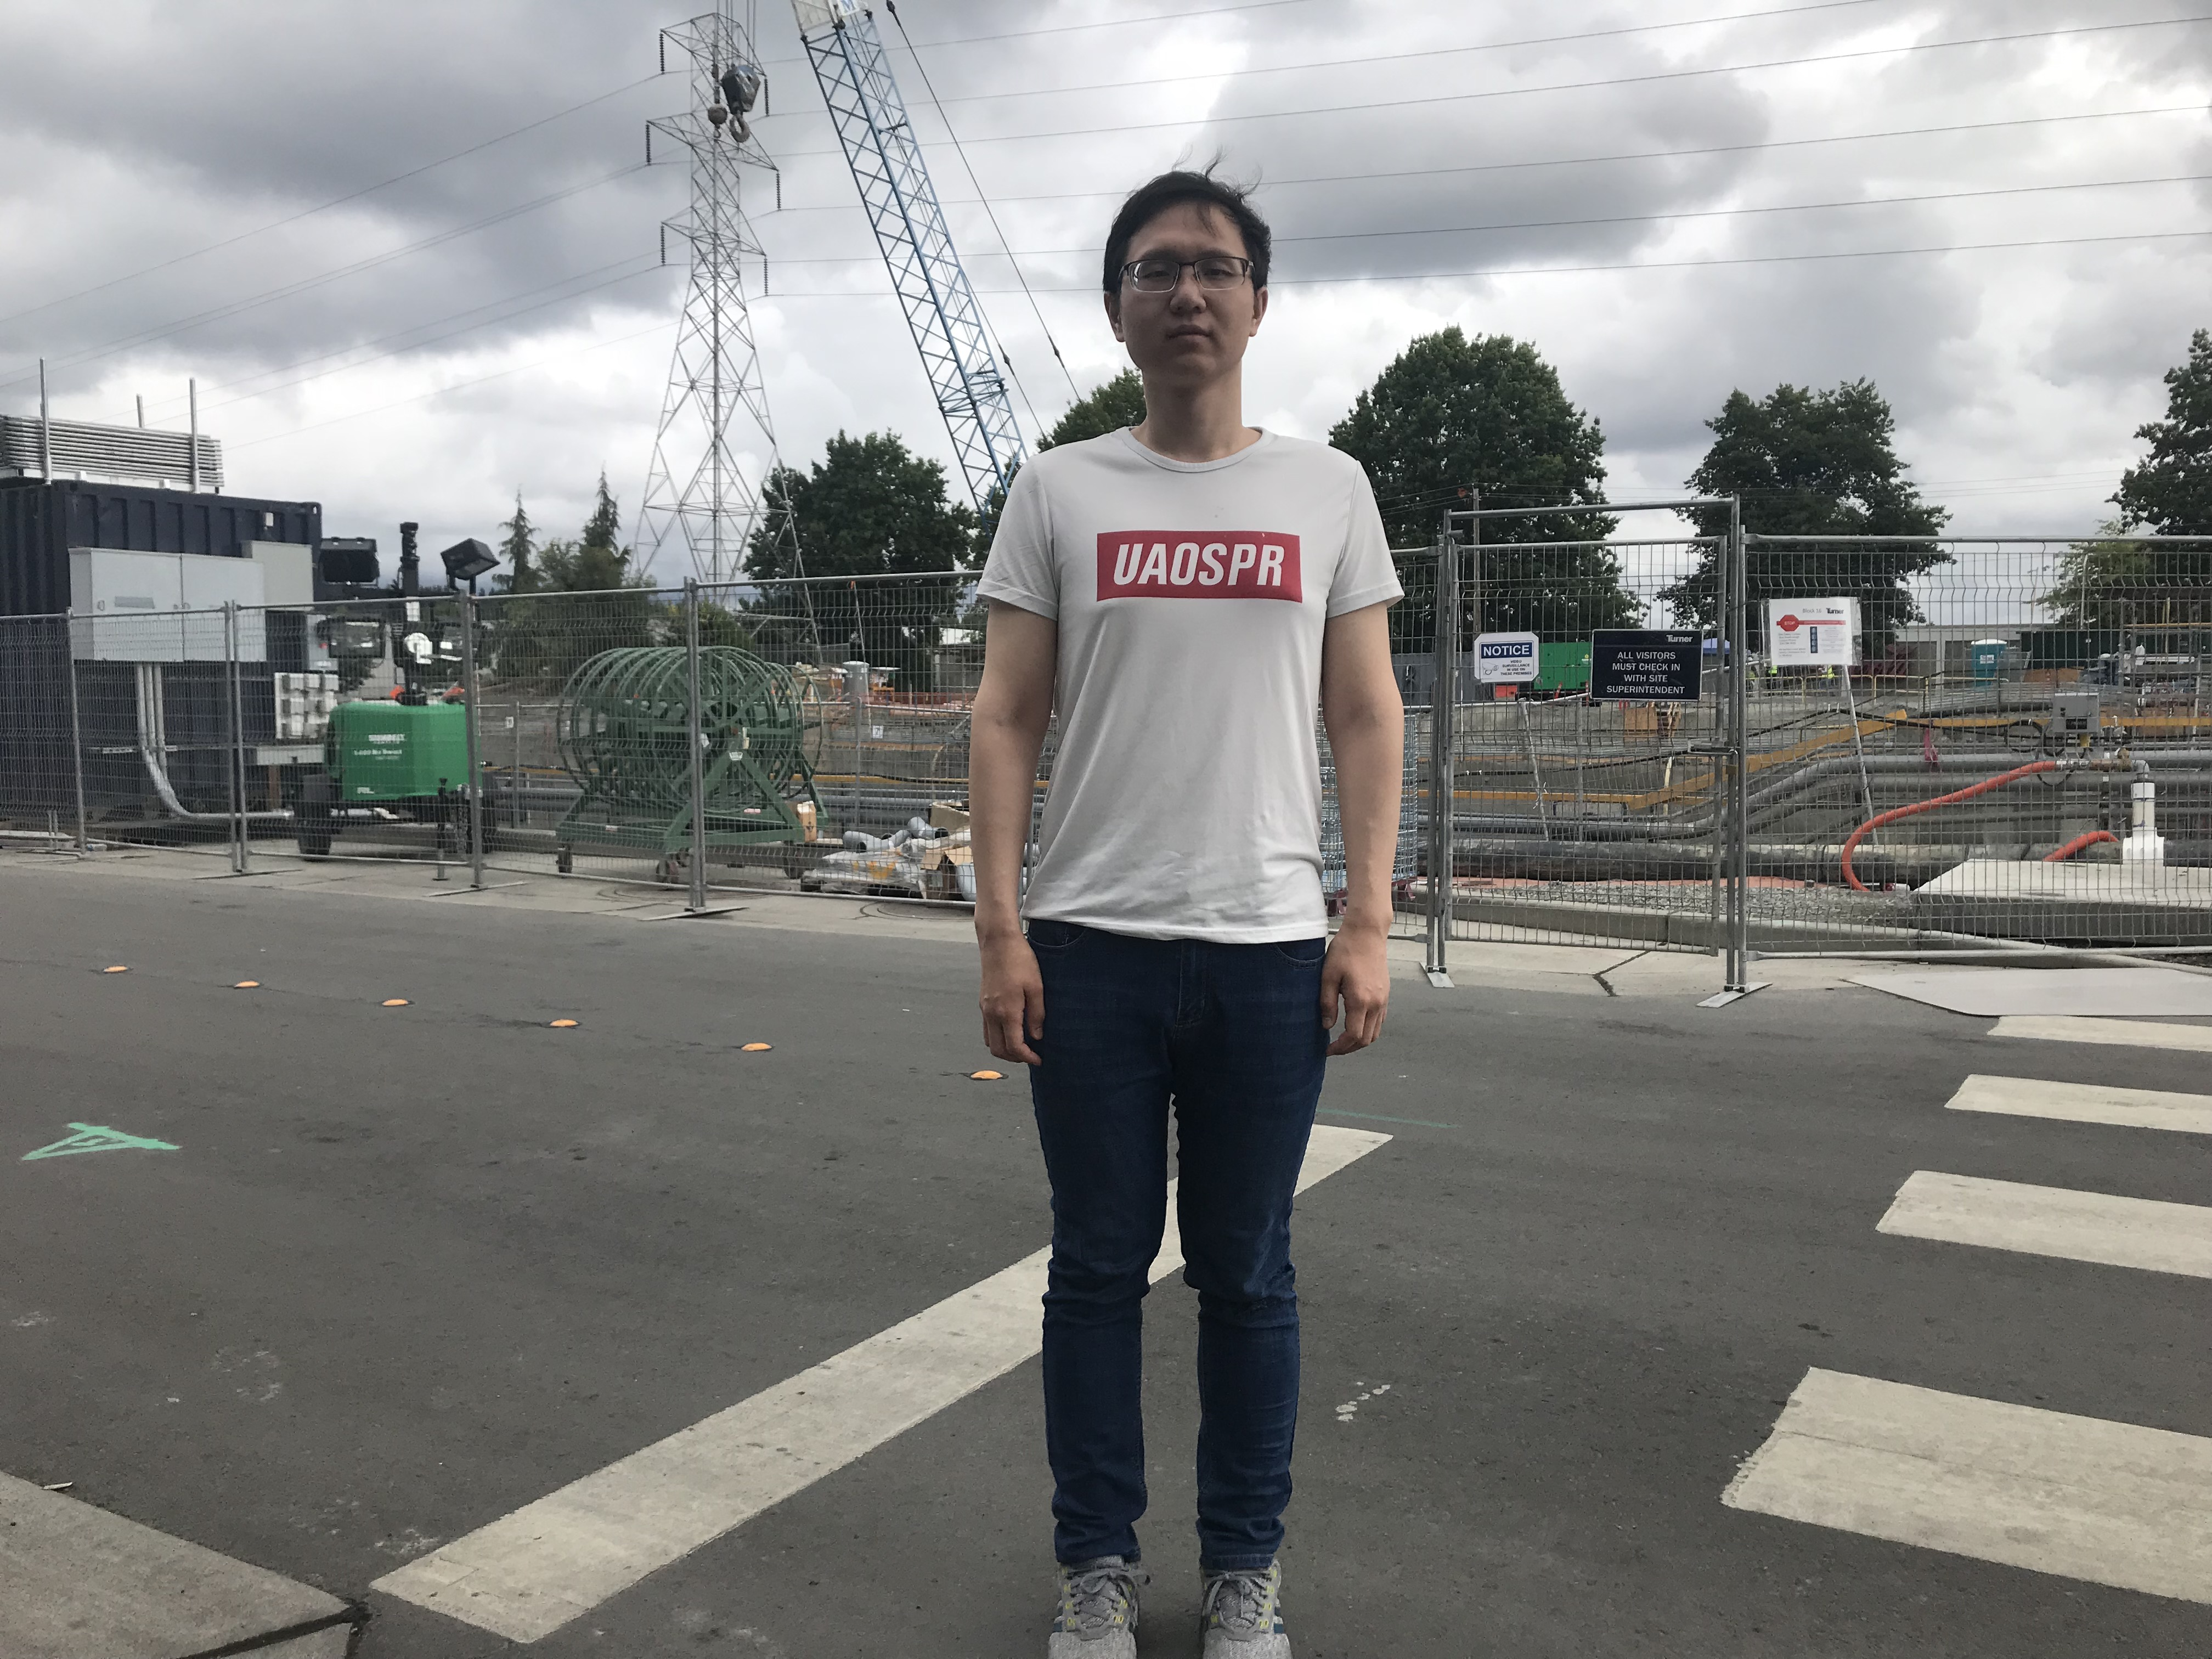attack_zone: (1078, 486, 1294, 859), (2067, 70, 2080, 77)
